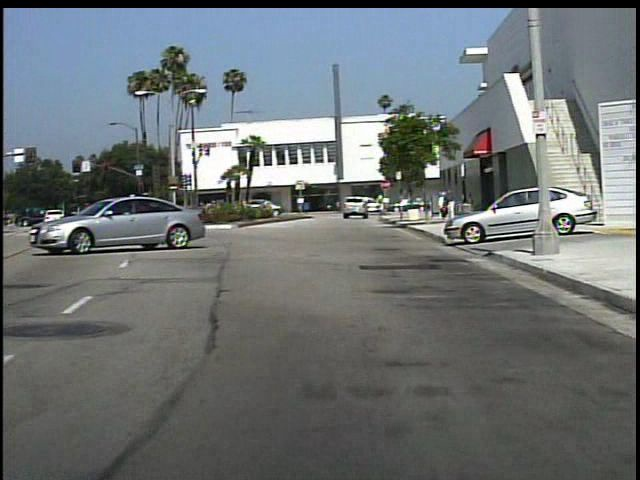person: (444, 188, 459, 224), (463, 189, 479, 222), (377, 191, 390, 219), (437, 192, 447, 220)
